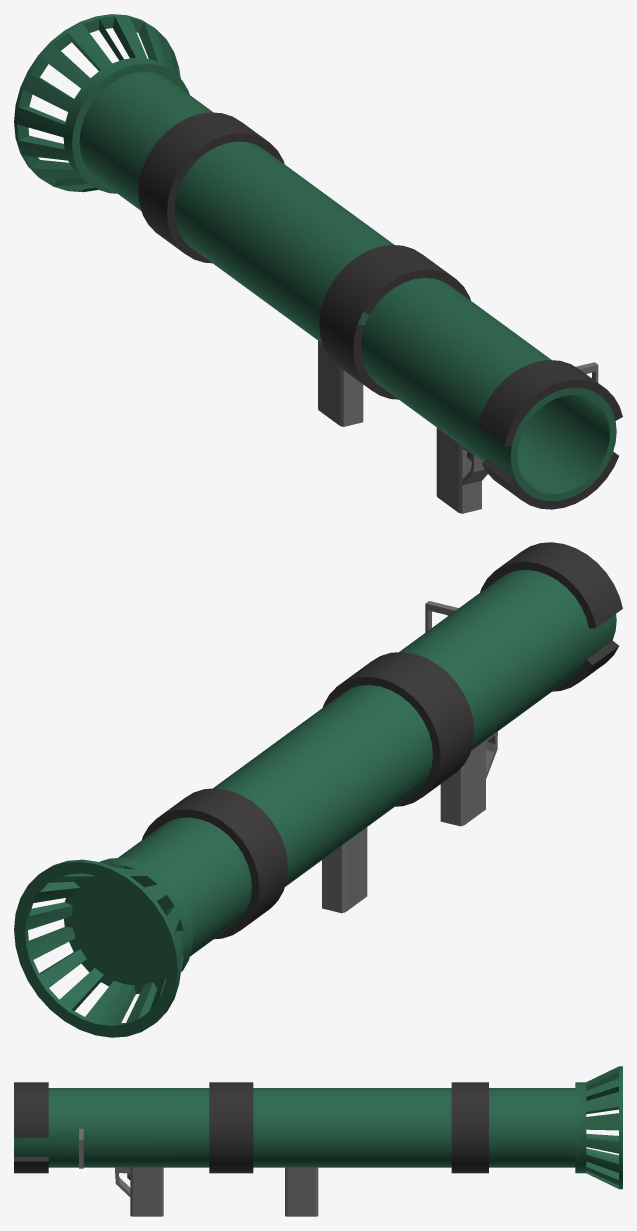
File: Sci fi RPG without rocket.fbx
3 renders of one model, top to bottom at view 1: azimuth 30°, elevation 25°; view 2: azimuth 150°, elevation 25°; view 3: azimuth 270°, elevation 25°, orthographic. The views are drawn at different scales.
Visible parts, largest first — view 1: Body, grip, grip2; view 2: Body, grip, grip2; view 3: Body, grip, grip2.
Part boxes in pixels (box(x1,y1,x2,y2)): Body: box(14, 14, 622, 509); grip: box(436, 427, 487, 513); grip2: box(318, 340, 363, 426); Body: box(14, 542, 622, 1037); grip: box(440, 731, 497, 826); grip2: box(322, 827, 367, 913); Body: box(14, 1066, 622, 1189); grip: box(115, 1167, 163, 1216); grip2: box(285, 1167, 318, 1216).
Bounding box in the file's own units: 0.85 × 4.13 × 1.06.
